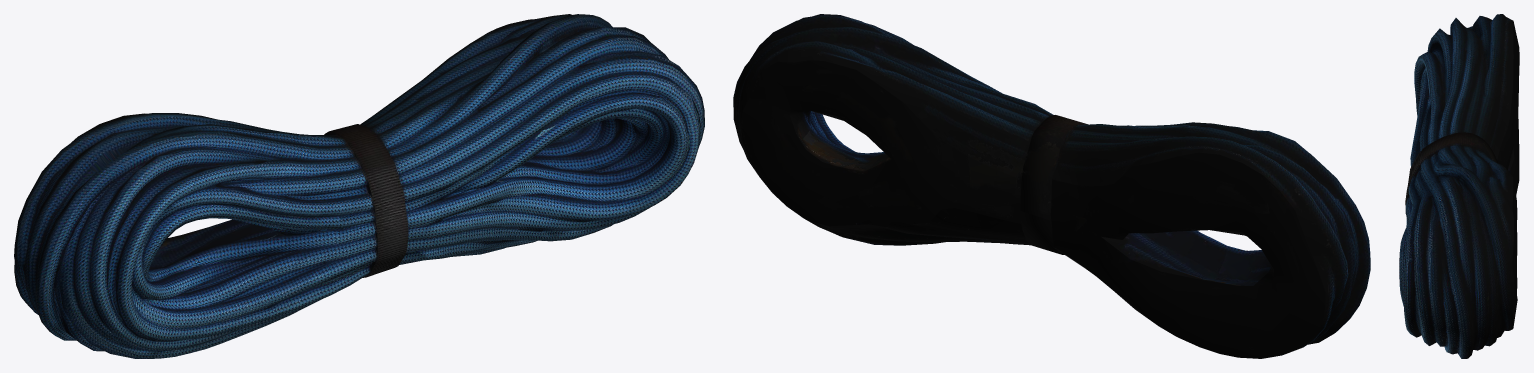
The model's file is rope.glb.
3 renders of one model, left to right at view 1: azimuth 30°, elevation 25°; view 2: azimuth 150°, elevation 25°; view 3: azimuth 270°, elevation 25°, orthographic. The views are drawn at different scales.
Visible parts, largest first — view 1: geometry_0; view 2: geometry_0; view 3: geometry_0.
Boxes of the visible parts, x1,y1,x2,y2 form: geometry_0: (14, 14, 704, 358); geometry_0: (733, 14, 1370, 358); geometry_0: (1399, 14, 1519, 358).
Bounding box in the file's own units: 0.523 × 0.1808 × 0.1067.
1 material, 1 textured.
